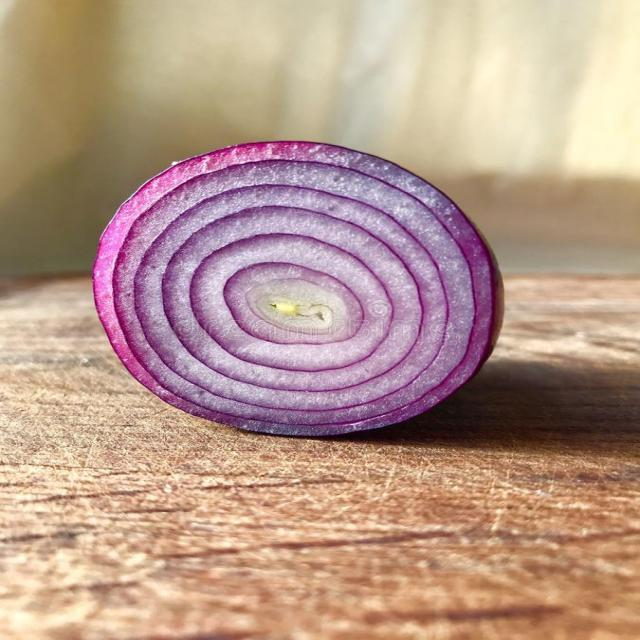onion: (100, 134, 509, 448)
